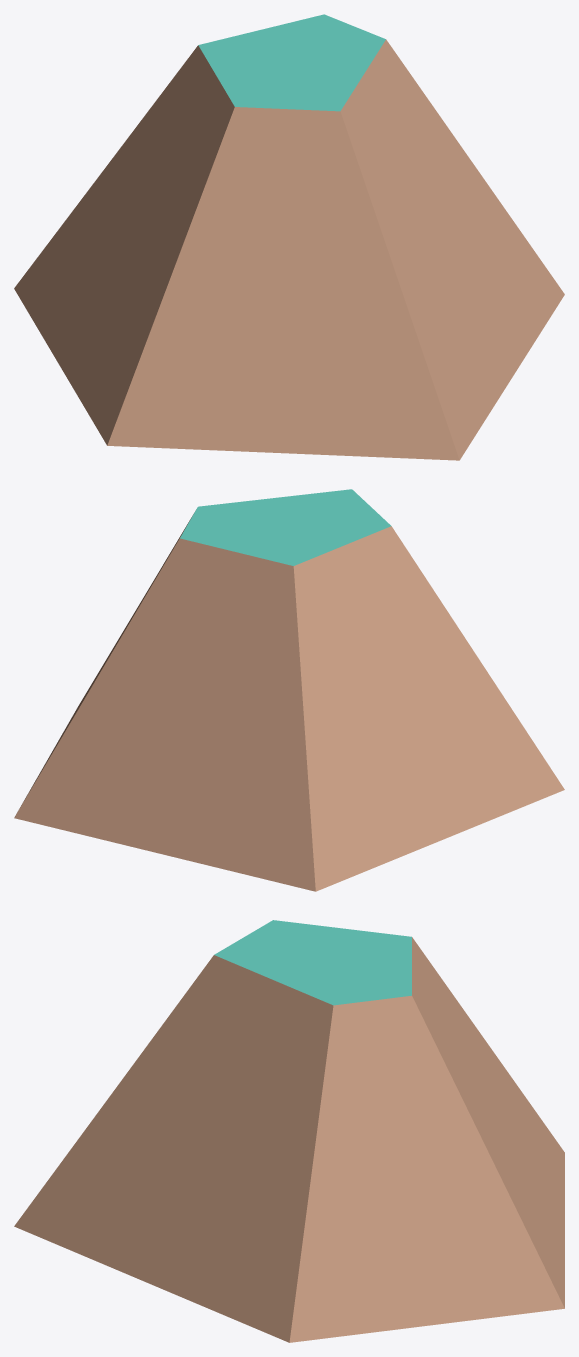
File: rock_smallA.glb
3 renders of one model, top to bottom at view 1: azimuth 30°, elevation 25°; view 2: azimuth 150°, elevation 25°; view 3: azimuth 270°, elevation 25°, orthographic. The views are drawn at different scales.
Visible parts, largest first — view 1: rock_smallA; view 2: rock_smallA; view 3: rock_smallA.
Boxes of the visible parts, x1=… form: rock_smallA: x1=14, y1=14, x2=564, y2=460; rock_smallA: x1=14, y1=489, x2=564, y2=891; rock_smallA: x1=14, y1=920, x2=564, y2=1342.
Bounding box in the file's own units: 0.3608 × 0.1912 × 0.3608.
